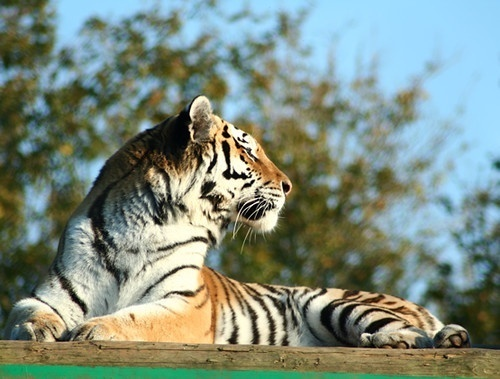tigre: (4, 95, 474, 345)
